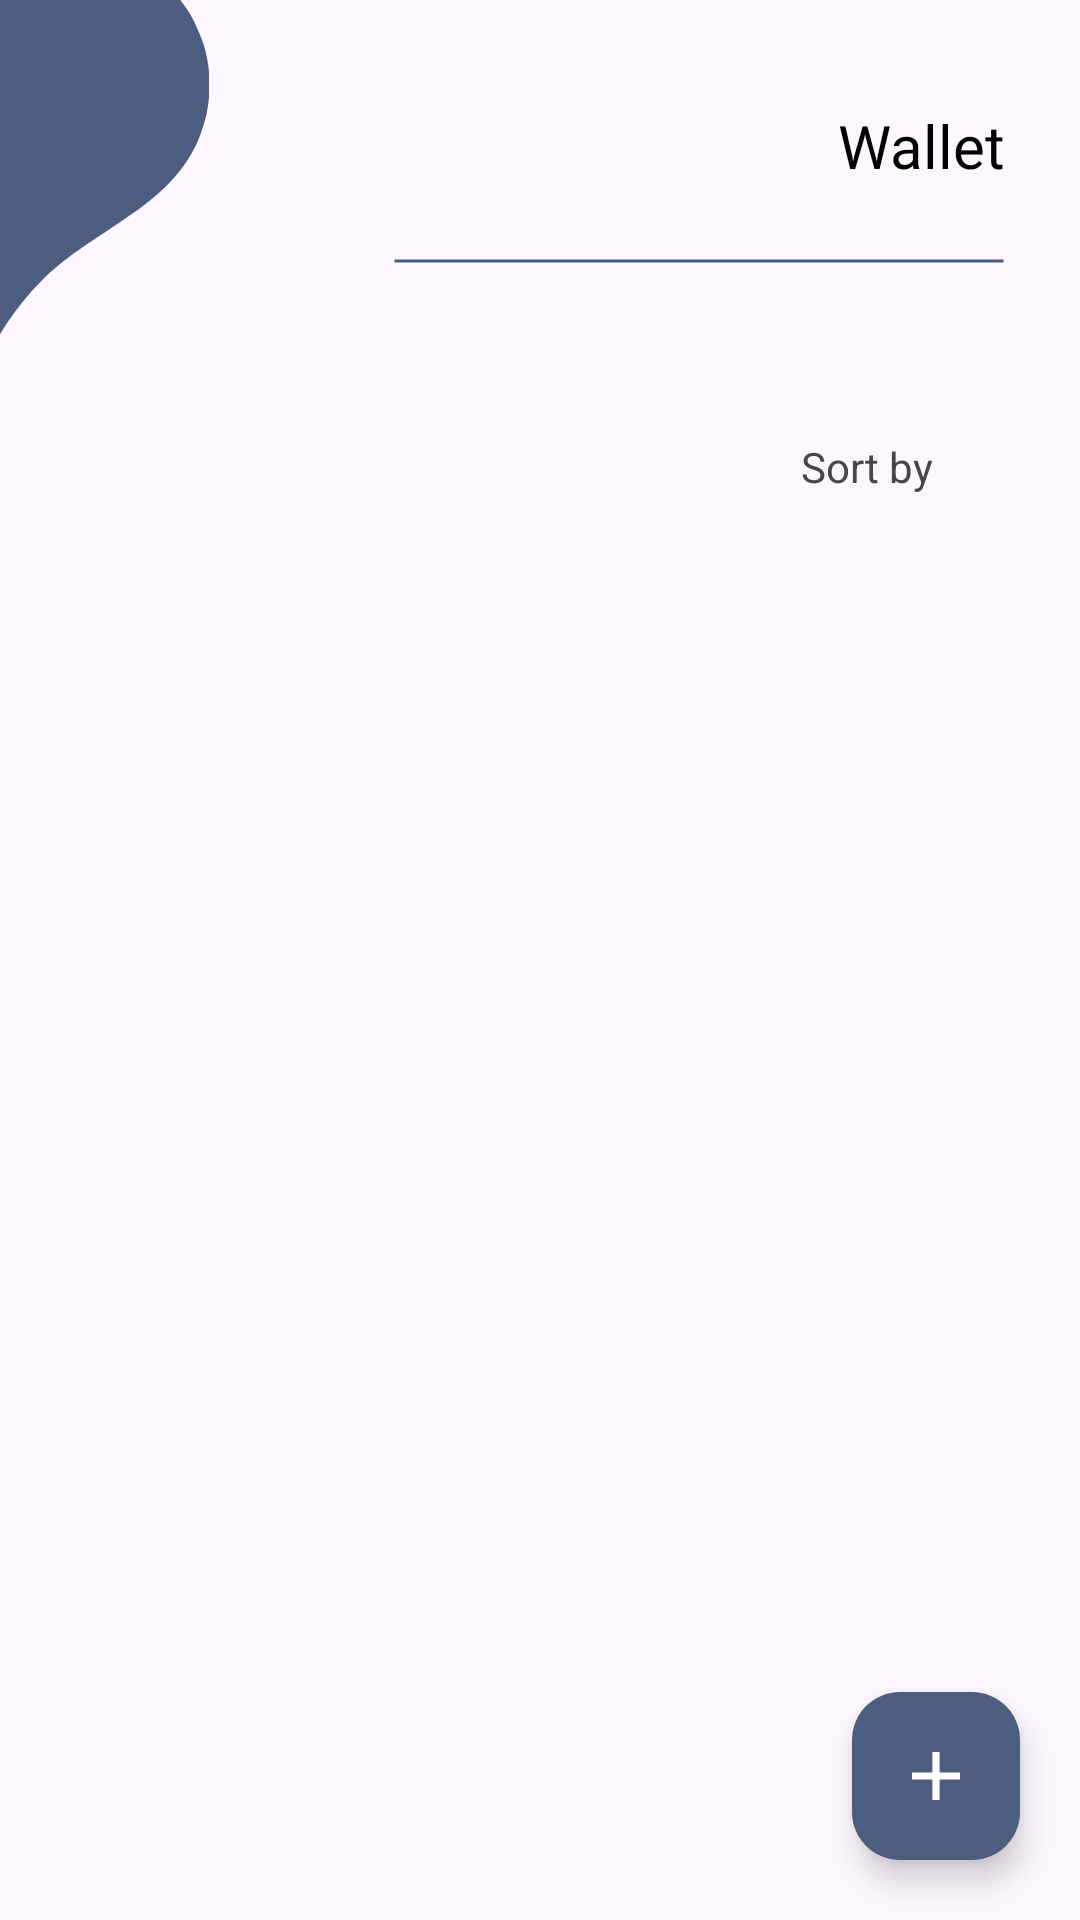

Where to tap for icons on this 1080 × 1920 app screen, as (x,y):
plus sign: (936,1776)
